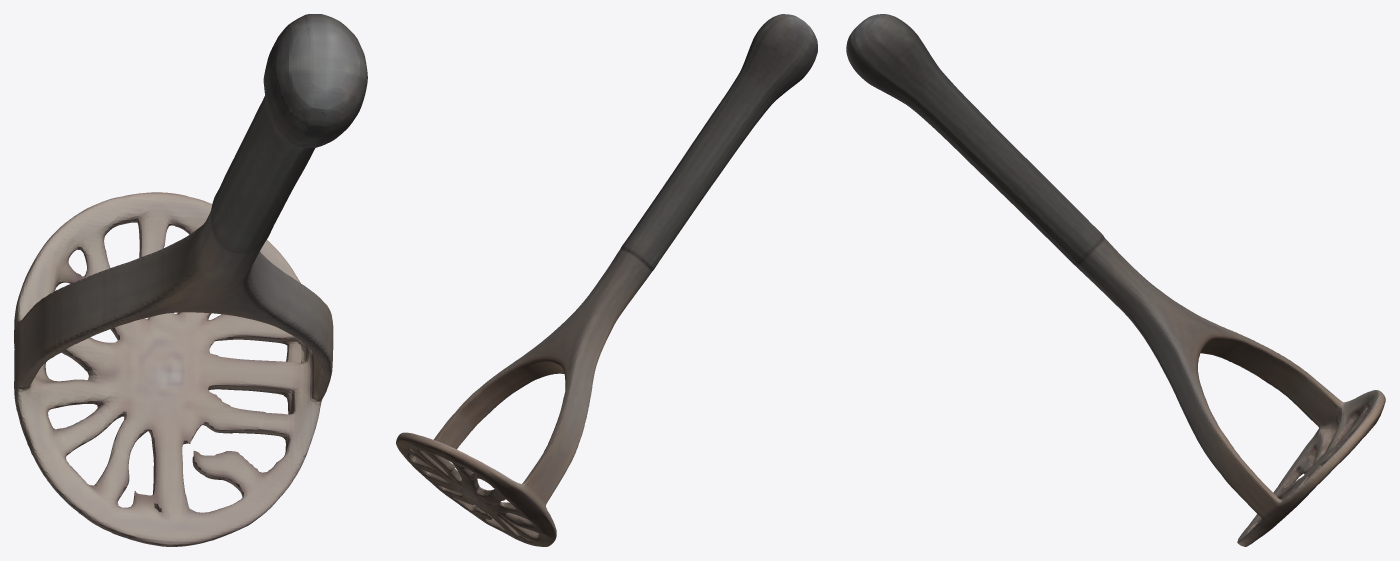
The model's file is frame_0050_source_000050_object.glb.
3 renders of one model, left to right at view 1: azimuth 30°, elevation 25°; view 2: azimuth 150°, elevation 25°; view 3: azimuth 270°, elevation 25°, orthographic. The views are drawn at different scales.
Visible parts, largest first — view 1: world; view 2: world; view 3: world.
Boxes of the visible parts, box(x1,y1,x2,y2) form: world: box(14, 14, 367, 546); world: box(396, 14, 817, 546); world: box(846, 14, 1385, 546).
Bounding box in the file's own units: 0.1056 × 0.2024 × 0.2115.
